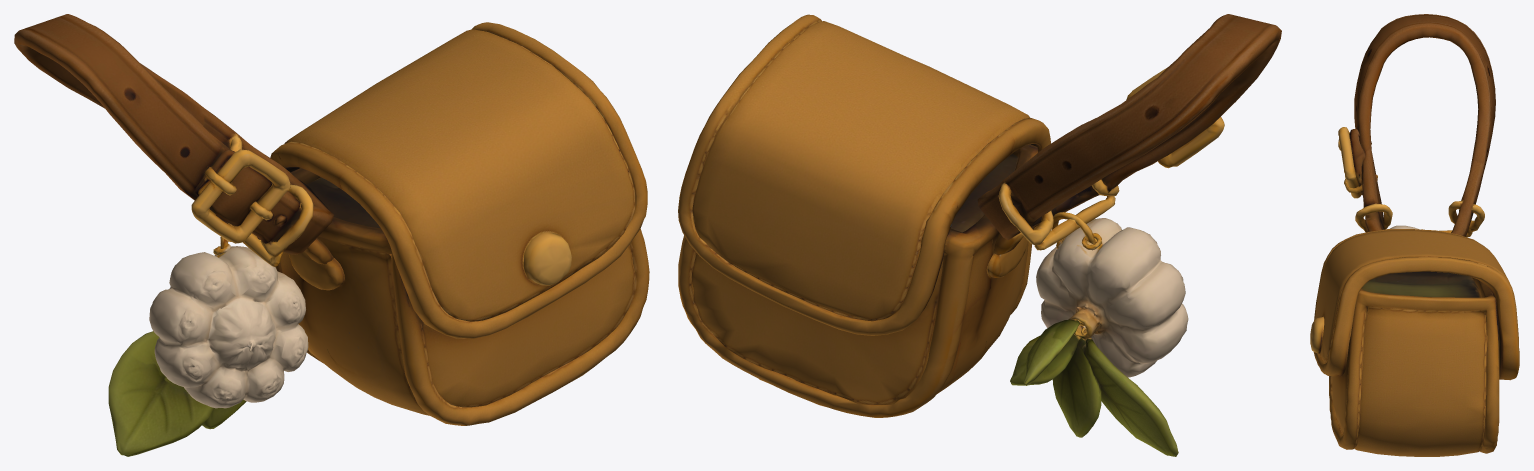
File: mem_ac_leatherbag.fbx
The picture shows the model from 3 angles, left to right: view 1: azimuth 30°, elevation 25°; view 2: azimuth 150°, elevation 25°; view 3: azimuth 270°, elevation 25°; orthographic projection. The views are drawn at different scales.
Visible parts, largest first — view 1: tripo_node_98b2d945-0483-42f2-a1cf-80134a1565fe; view 2: tripo_node_98b2d945-0483-42f2-a1cf-80134a1565fe; view 3: tripo_node_98b2d945-0483-42f2-a1cf-80134a1565fe.
Boxes of the visible parts, box(x1,y1,x2,y2) form: tripo_node_98b2d945-0483-42f2-a1cf-80134a1565fe: box(14, 14, 649, 456); tripo_node_98b2d945-0483-42f2-a1cf-80134a1565fe: box(678, 14, 1281, 456); tripo_node_98b2d945-0483-42f2-a1cf-80134a1565fe: box(1310, 14, 1519, 456).
Bounding box in the file's own units: 0.998 × 0.7676 × 0.4824.
1 material, 1 textured.
